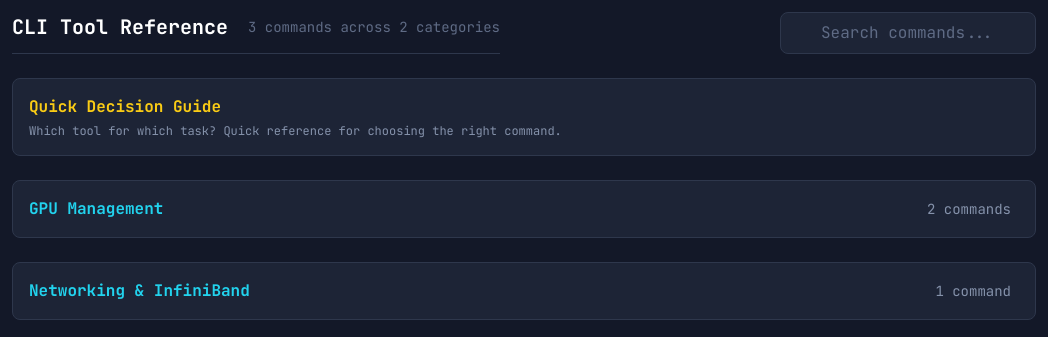
Test: CommandsReference › search filters commands by name
Expected: the heading "GPU Management" is shown, [29,198,163,219]
Type "ibstat" into the field with placeholder "Search commands..." at (908, 33), box [780,12,1036,54]
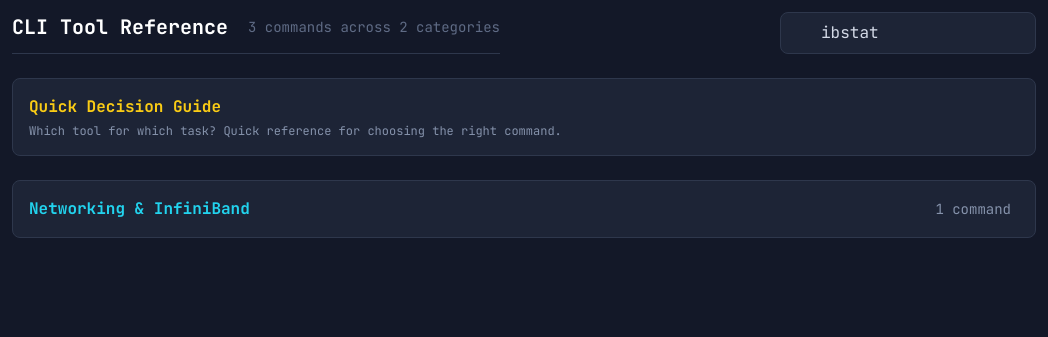
Expected: the heading "Networking & InfiniBand" is shown, [29,198,250,219]
Expected: the button "GPU Management" is gone
